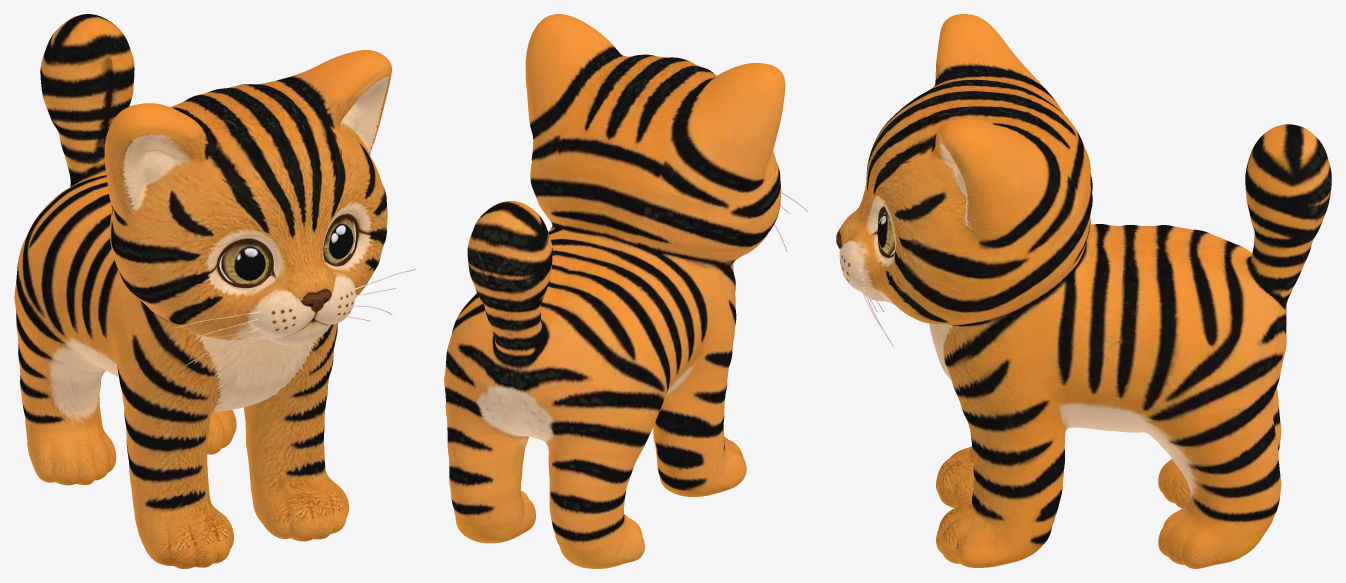
The model's file is meshy-toyger.glb.
3 renders of one model, left to right at view 1: azimuth 30°, elevation 25°; view 2: azimuth 150°, elevation 25°; view 3: azimuth 270°, elevation 25°, orthographic. The views are drawn at different scales.
Parts seen in each view (by area): view 1: Mesh_0; view 2: Mesh_0; view 3: Mesh_0.
Part boxes in pixels (bbox=[...]): Mesh_0: bbox=[14, 14, 415, 568]; Mesh_0: bbox=[444, 14, 807, 568]; Mesh_0: bbox=[836, 14, 1331, 568].
Bounding box in the file's own units: 1.18 × 1.9 × 1.87.
Materials: 1 (1 with a texture image).
